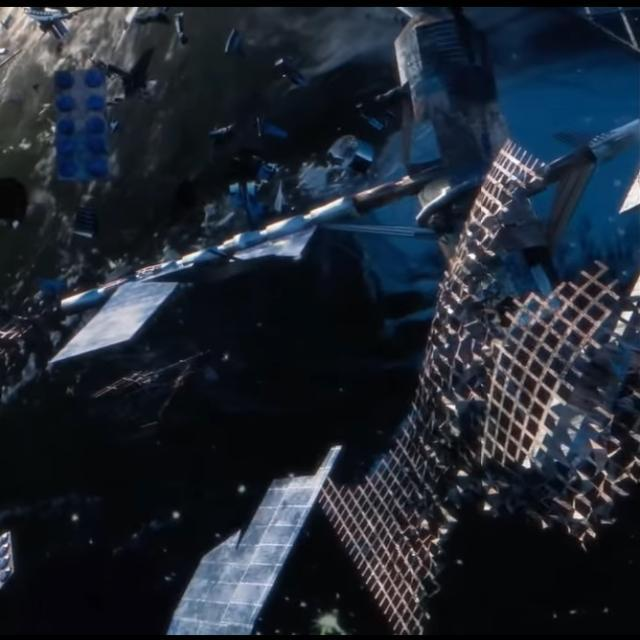large_debris: (55, 6, 640, 363), (309, 126, 640, 640), (149, 432, 348, 640), (44, 67, 122, 199)
